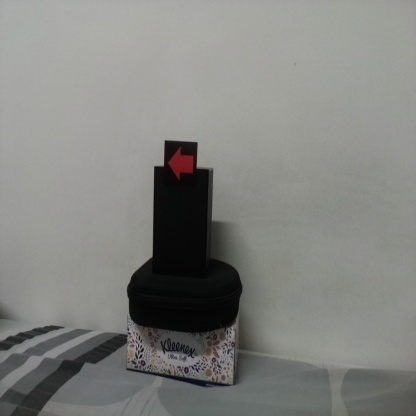id_4: (163, 140, 197, 188)
